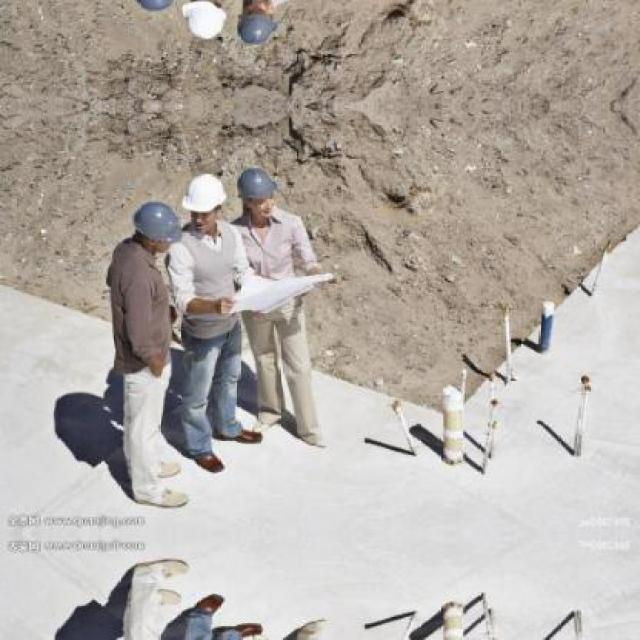helmet: (179, 172, 230, 240), (135, 194, 182, 254), (234, 163, 280, 221), (234, 0, 281, 51), (178, 0, 231, 42), (134, 0, 183, 19)
